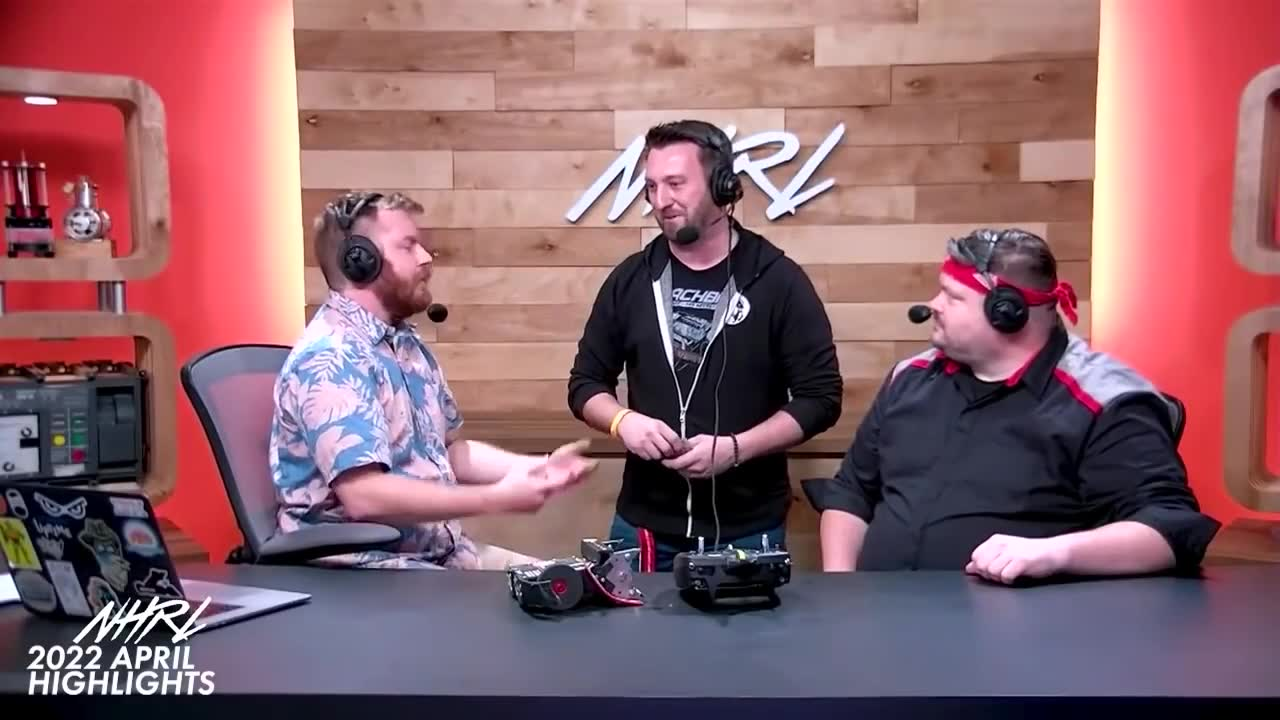combatbot: (505, 536, 648, 619)
